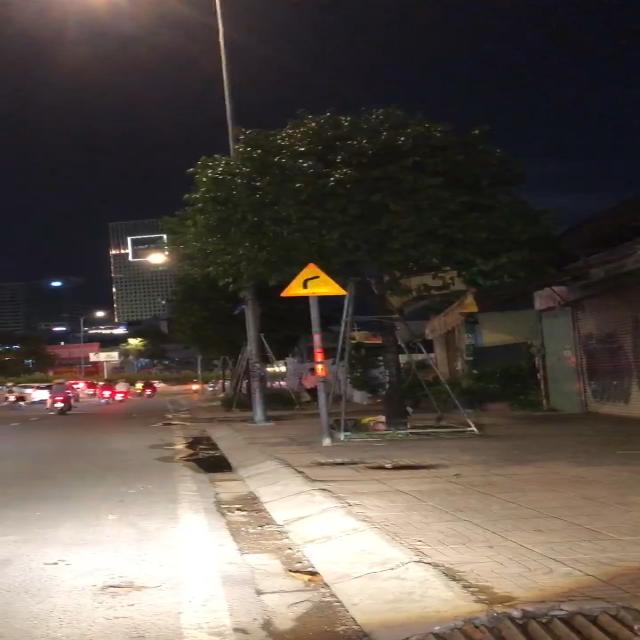Bien bao cho ngoat nguy hiem: (271, 258, 361, 300)
